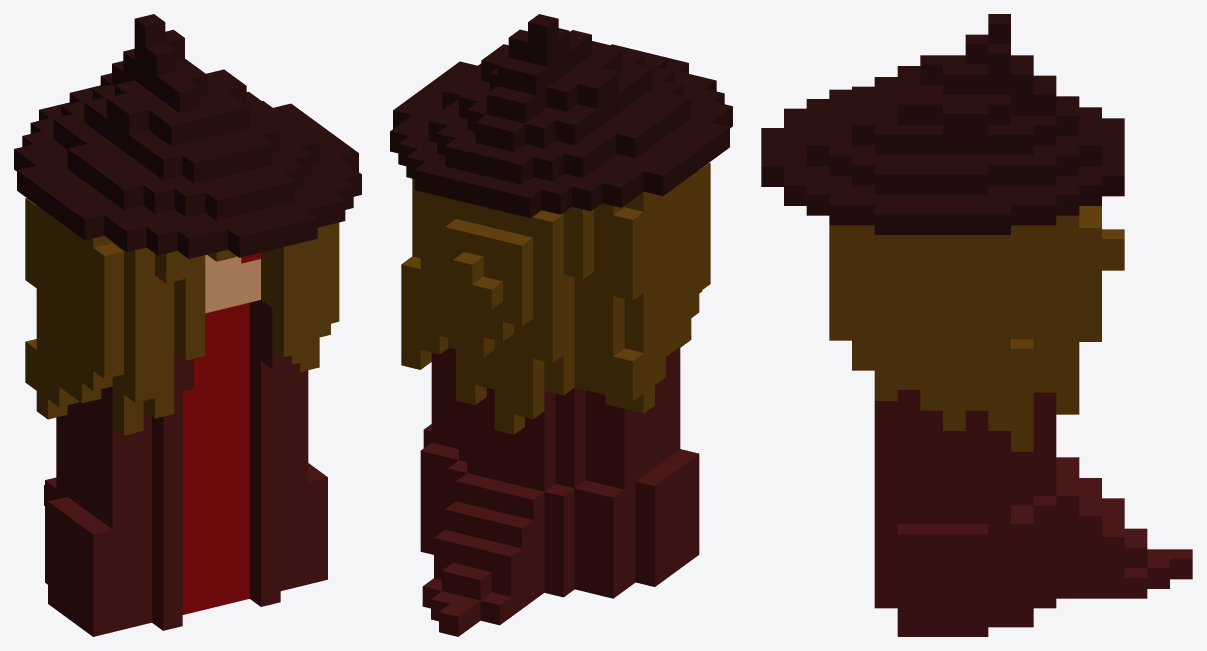
The model's file is Bruxa 02 - Idle-00.obj.
3 views of the same model, side by side, from view 1: azimuth 30°, elevation 25°; view 2: azimuth 150°, elevation 25°; view 3: azimuth 270°, elevation 25° (orthographic).
Size of the model in its own units: 14 by 27 by 19.
1 material, 1 textured.
